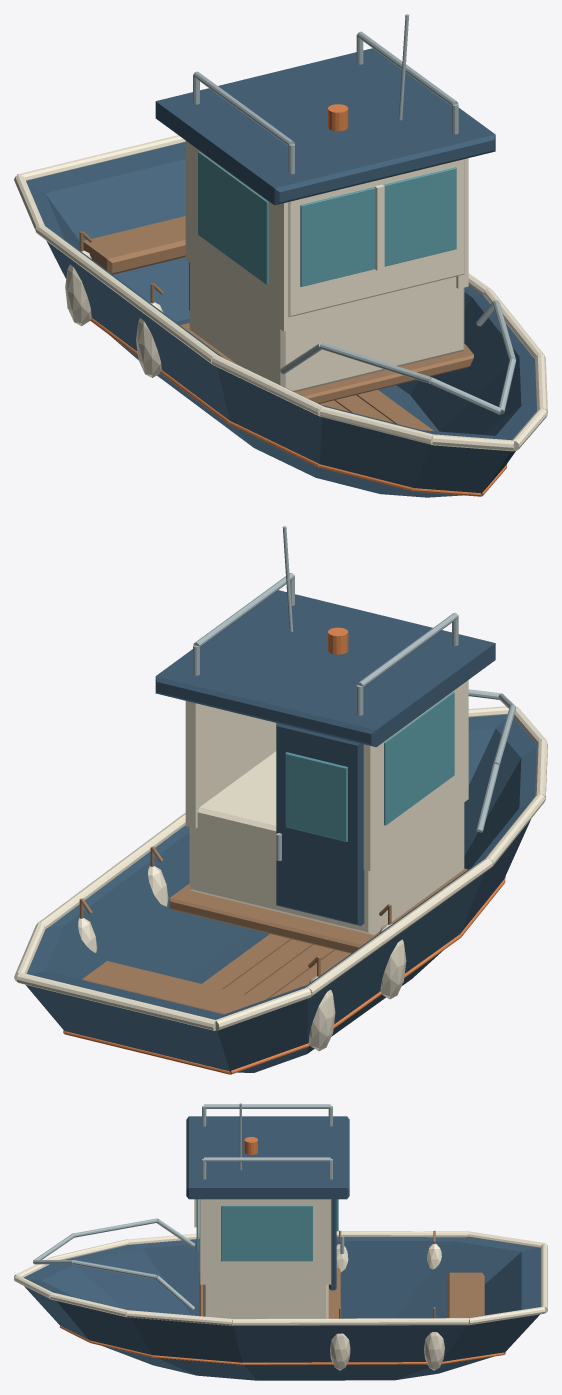
File: cabin-fishing-boat.glb
3 views of the same model, one above another, from view 1: azimuth 30°, elevation 25°; view 2: azimuth 150°, elevation 25°; view 3: azimuth 270°, elevation 25° (orthographic). The views are drawn at different scales.
Parts seen in each view (by area): view 1: navy, ivory, glass, cedar, metal, orange; view 2: navy, ivory, cedar, glass, metal, orange; view 3: navy, ivory, glass, metal, cedar, orange.
Part boxes in pixels (x1,y1,x2,y2): navy: (26,48,536,497); ivory: (14,135,547,451); glass: (198,151,456,286); cedar: (79,216,473,431); metal: (193,14,516,414); orange: (90,104,506,496); navy: (25,590,536,1072); ivory: (14,680,547,1051); cedar: (79,846,467,1014); glass: (285,692,454,841); metal: (193,526,516,860); orange: (63,627,505,1074); navy: (24,1116,540,1380); ivory: (14,1199,547,1370); glass: (196,1199,338,1261); metal: (33,1103,344,1310); cedar: (199,1230,484,1318); orange: (60,1137,505,1365).
Bounding box in the file's own units: 2.07 × 2.86 × 5.1.
